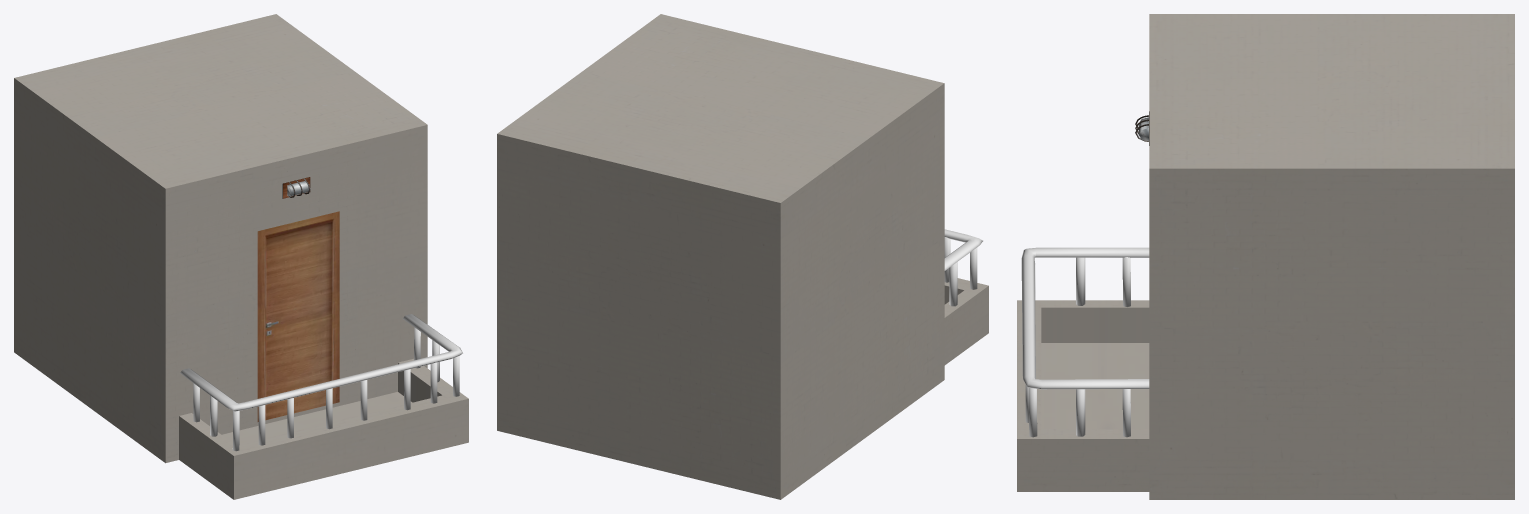
Rendered from WhiteBrick_SingleBox_with_Door.fbx.
3 renders of one model, left to right at view 1: azimuth 30°, elevation 25°; view 2: azimuth 150°, elevation 25°; view 3: azimuth 270°, elevation 25°, orthographic. The views are drawn at different scales.
Parts seen in each view (by area): view 1: Cube.001; view 2: Cube.001; view 3: Cube.001.
Boxes of the visible parts, x1=… form: Cube.001: x1=14, y1=14, x2=468, y2=499; Cube.001: x1=497, y1=14, x2=988, y2=499; Cube.001: x1=1017, y1=14, x2=1514, y2=499.
Bounding box in the file's own units: 200 × 200 × 272.
